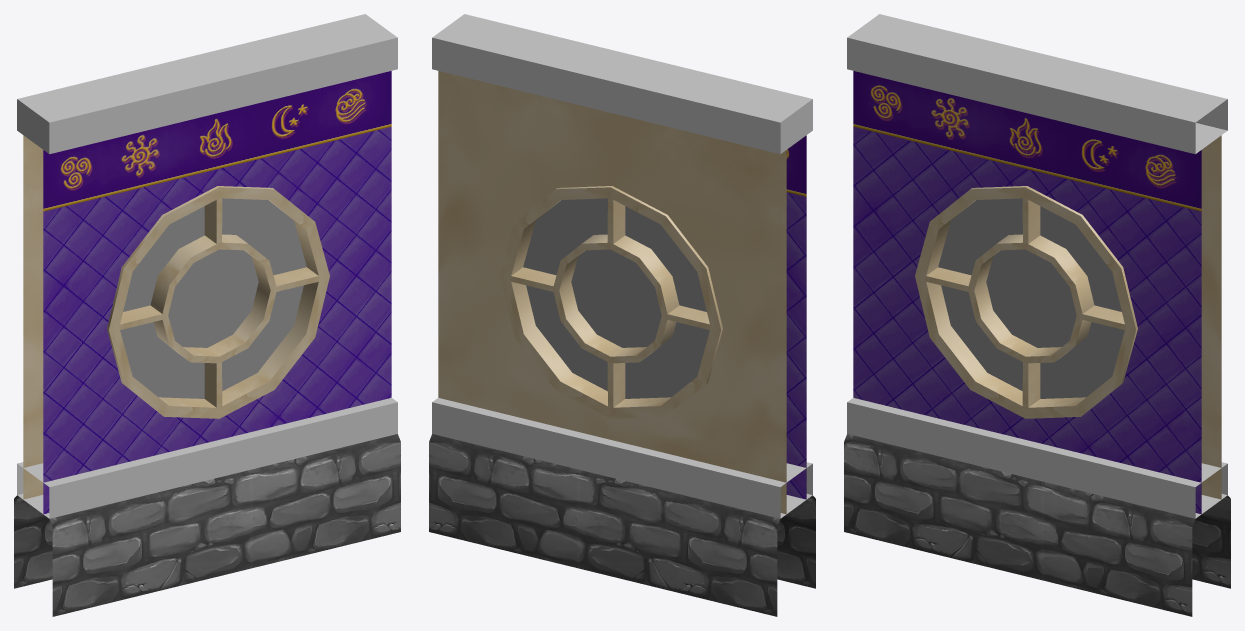
File: MOD_Alchemist_wall_window.fbx
The picture shows the model from 3 angles, left to right: view 1: azimuth 30°, elevation 25°; view 2: azimuth 150°, elevation 25°; view 3: azimuth 330°, elevation 25°; orthographic projection.
Parts seen in each view (by area): view 1: Alchemist_wall_window; view 2: Alchemist_wall_window; view 3: Alchemist_wall_window.
Part boxes in pixels (x1,y1,x2,y2): Alchemist_wall_window: (14, 14, 400, 616); Alchemist_wall_window: (429, 14, 815, 616); Alchemist_wall_window: (844, 14, 1230, 616).
Bounding box in the file's own units: 118 × 22.62 × 159.
